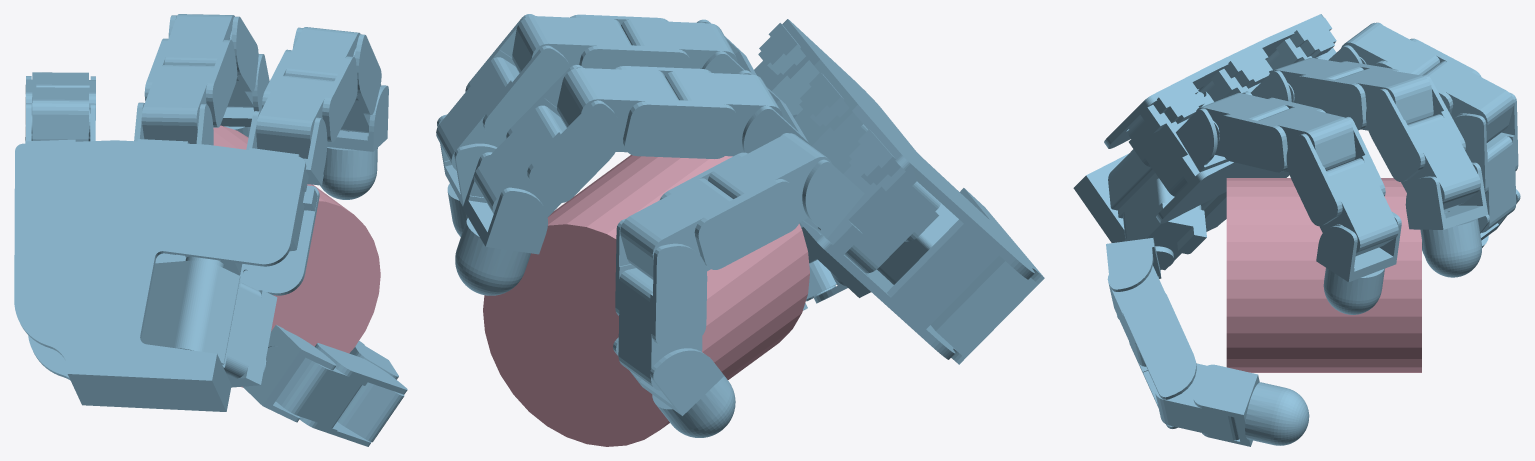
3 views of the same model, side by side, from view 1: azimuth 30°, elevation 25°; view 2: azimuth 150°, elevation 25°; view 3: azimuth 270°, elevation 25° (orthographic). The views are drawn at different scales.
Visible parts, largest first — view 1: world; view 2: world; view 3: world.
Boxes of the visible parts, left/top/right/bottom form: world: left=14, top=14, right=407, bottom=446; world: left=436, top=14, right=1044, bottom=446; world: left=1073, top=14, right=1520, bottom=446.
Size of the model in its own units: 0.1966 by 0.1527 by 0.1831.
